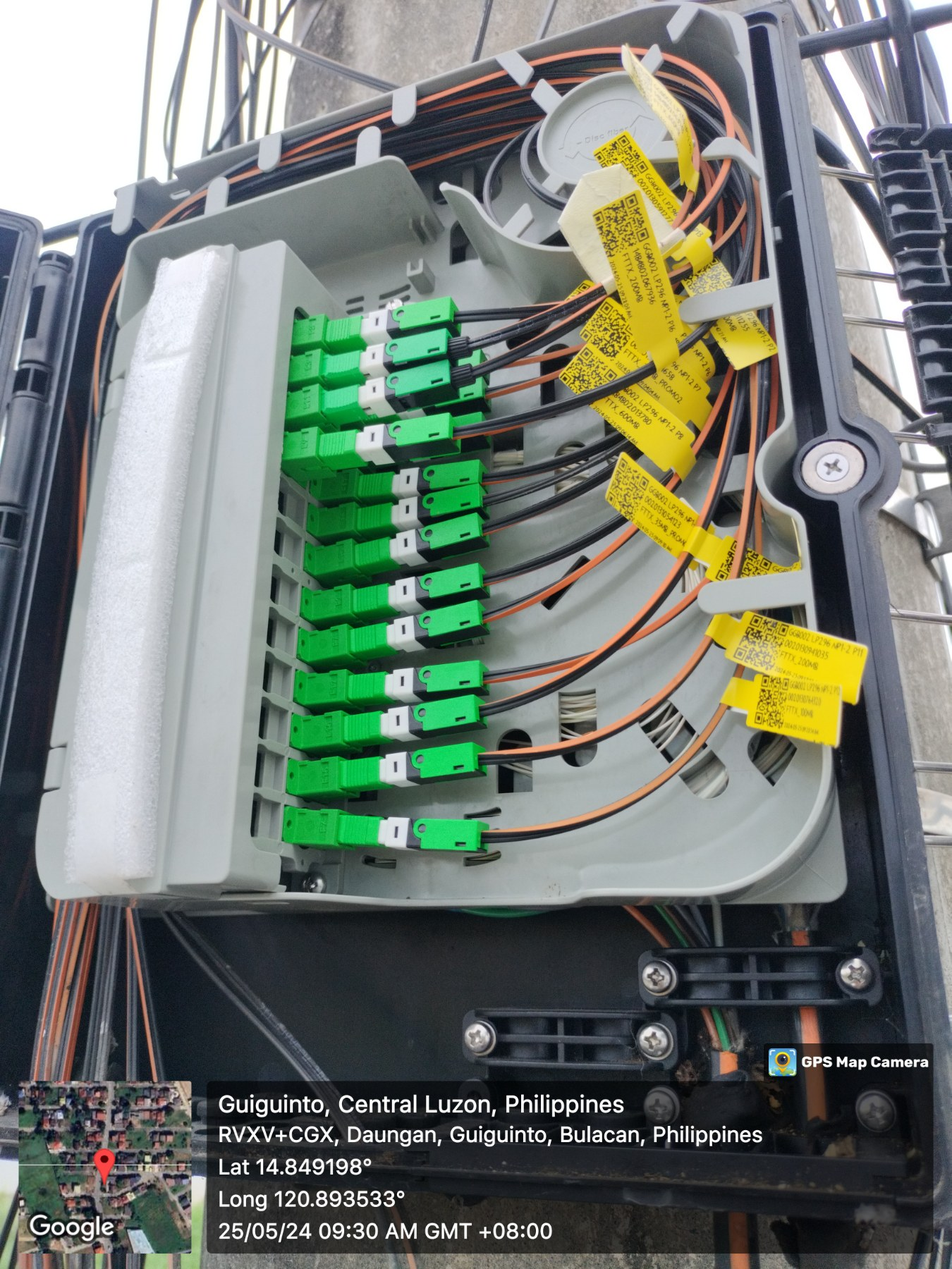no port: (277, 475, 309, 529), (272, 518, 305, 570), (257, 696, 291, 744), (261, 653, 295, 700), (250, 794, 283, 842), (270, 564, 299, 617), (254, 744, 286, 792), (268, 607, 295, 656)
occupied: (318, 412, 468, 473), (349, 599, 489, 662), (354, 510, 490, 574), (356, 560, 489, 622), (323, 294, 464, 352), (340, 741, 490, 794), (320, 330, 468, 383), (343, 660, 494, 707), (348, 695, 485, 745), (359, 481, 490, 532), (322, 368, 465, 414), (367, 411, 488, 464), (334, 810, 486, 852), (361, 457, 486, 500), (367, 377, 491, 419), (378, 345, 490, 380)
